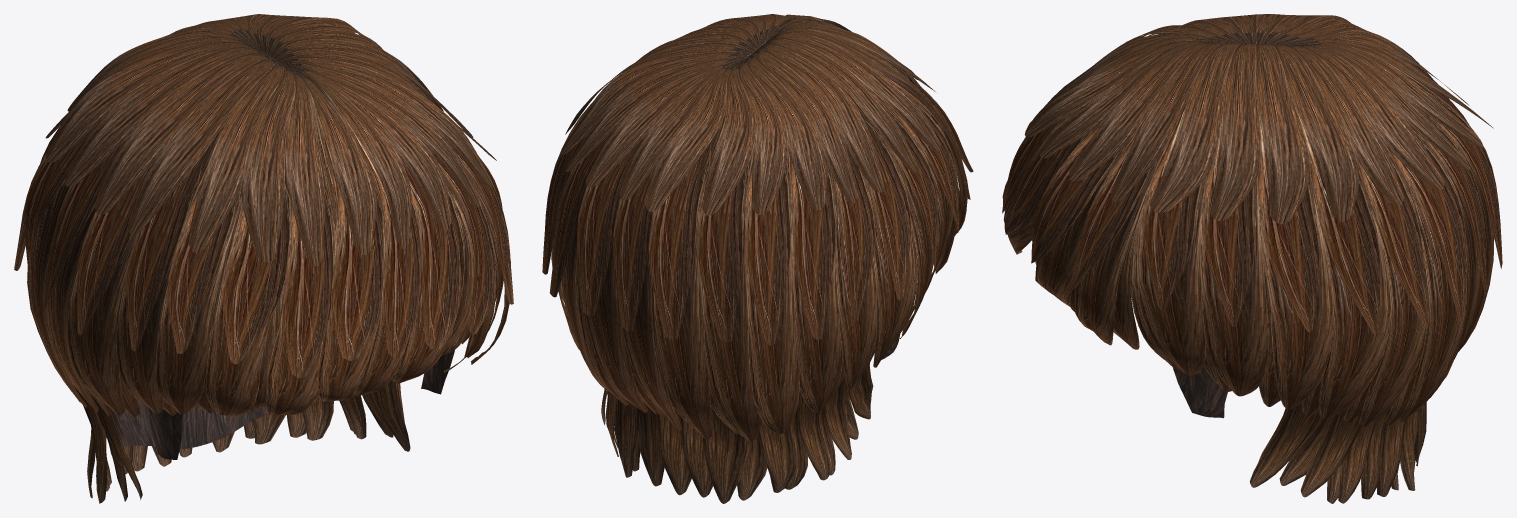
The model's file is Hair.glb.
3 views of the same model, side by side, from view 1: azimuth 30°, elevation 25°; view 2: azimuth 150°, elevation 25°; view 3: azimuth 270°, elevation 25° (orthographic). The views are drawn at different scales.
Visible parts, largest first — view 1: Duke for Genesis; view 2: Duke for Genesis; view 3: Duke for Genesis.
Boxes of the visible parts, x1,y1,x2,y2 form: Duke for Genesis: [14, 14, 513, 503]; Duke for Genesis: [542, 14, 973, 503]; Duke for Genesis: [1002, 14, 1502, 503].
Bounding box in the file's own units: 4.21 × 4.76 × 5.02.
2 materials, 2 textured.
